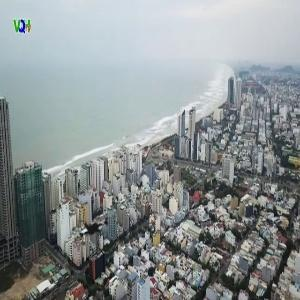drone: (67, 199, 121, 253)
